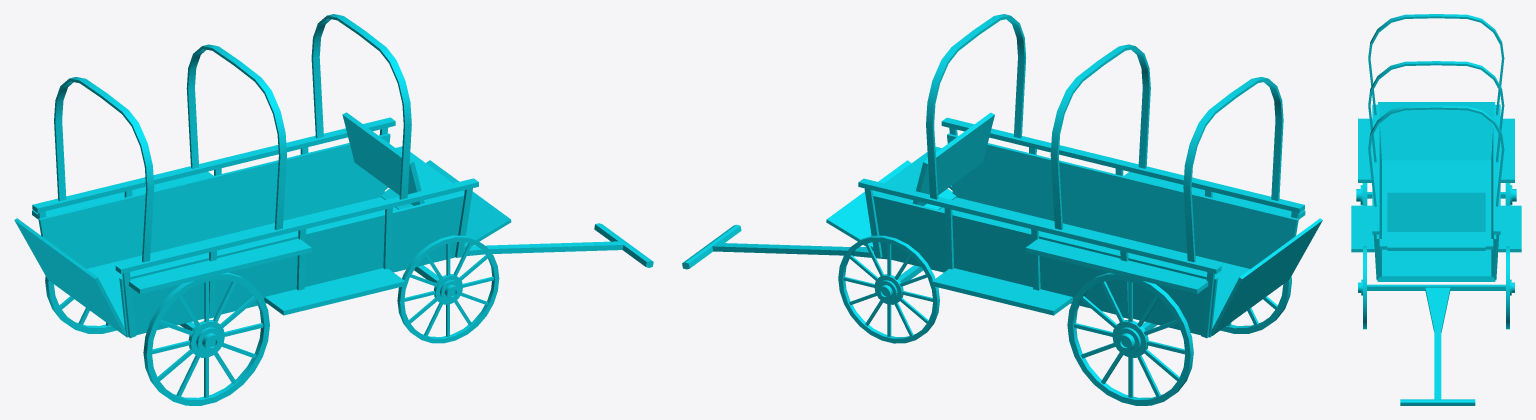
The model's file is cariolle.FBX.
3 renders of one model, left to right at view 1: azimuth 30°, elevation 25°; view 2: azimuth 150°, elevation 25°; view 3: azimuth 270°, elevation 25°, orthographic. The views are drawn at different scales.
Visible parts, largest first — view 1: Box026; view 2: Box026; view 3: Box026.
Boxes of the visible parts, x1,y1,x2,y2 form: Box026: (14,14,653,405); Box026: (682,14,1322,405); Box026: (1351,14,1521,405).
Bounding box in the file's own units: 614 × 292 × 217.
